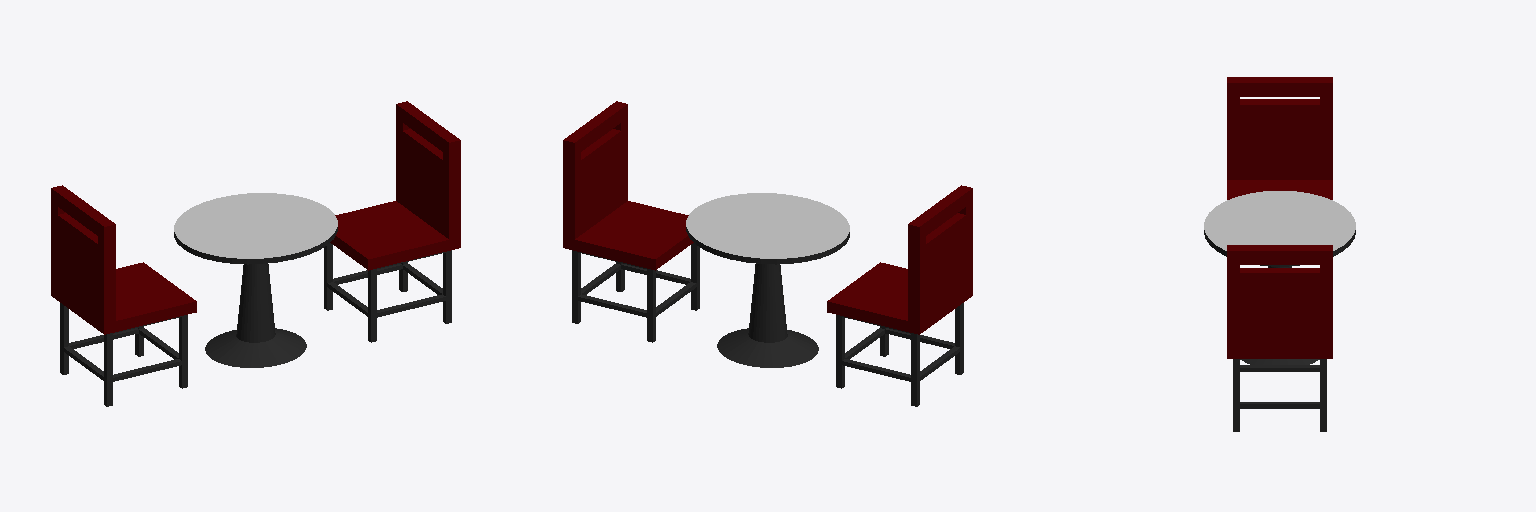
The model's file is mesaSillas.obj.
3 views of the same model, side by side, from view 1: azimuth 30°, elevation 25°; view 2: azimuth 150°, elevation 25°; view 3: azimuth 270°, elevation 25° (orthographic).
Parts seen in each view (by area): view 1: Cube_Cube.001, Cylinder; view 2: Cube_Cube.001, Cylinder; view 3: Cube_Cube.001, Cylinder.
Boxes of the visible parts, box(x1,y1,x2,y2) form: Cube_Cube.001: box(51, 101, 460, 406); Cylinder: box(174, 193, 337, 367); Cube_Cube.001: box(563, 101, 972, 406); Cylinder: box(686, 193, 849, 367); Cube_Cube.001: box(1227, 77, 1332, 431); Cylinder: box(1204, 191, 1355, 364).
Bounding box in the file's own units: 13.49 × 6.65 × 5.